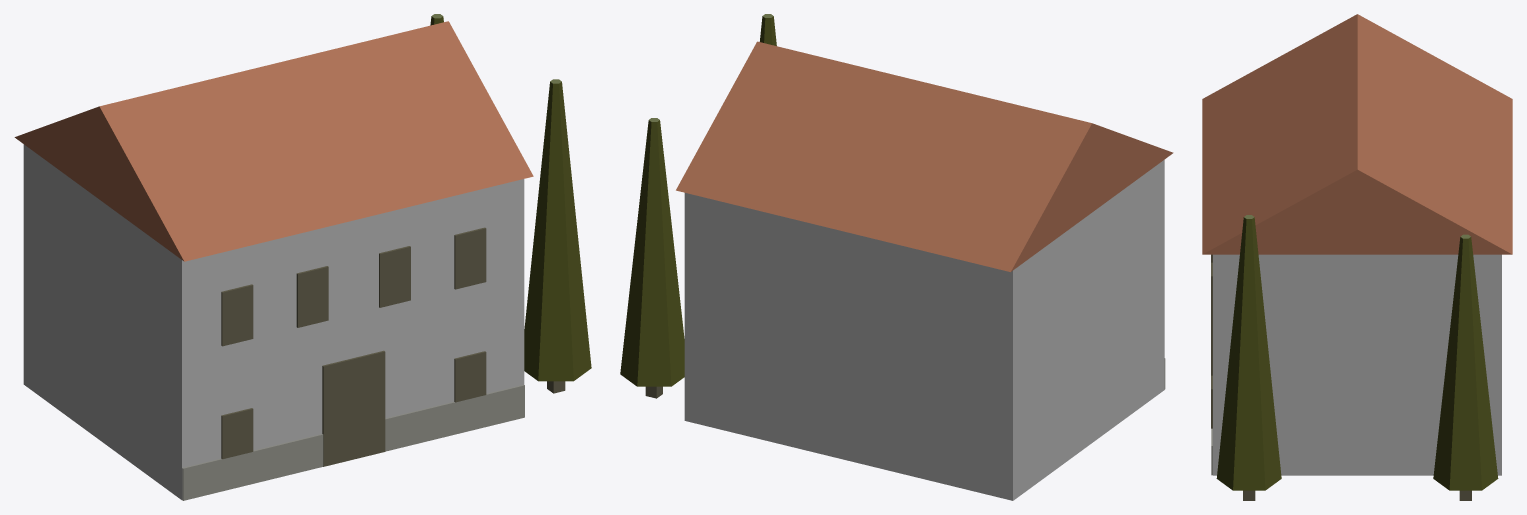
Rendered from SM_CasaLabor_v0_Encalada_LOD1.fbx.
3 renders of one model, left to right at view 1: azimuth 30°, elevation 25°; view 2: azimuth 150°, elevation 25°; view 3: azimuth 270°, elevation 25°, orthographic. The views are drawn at different scales.
Parts seen in each view (by area): view 1: SM_bloques.viveres_nules_v10_LOD1; view 2: SM_bloques.viveres_nules_v10_LOD1; view 3: SM_bloques.viveres_nules_v10_LOD1.
Part boxes in pixels (left/top/right/bottom): SM_bloques.viveres_nules_v10_LOD1: left=14, top=14, right=591, bottom=500; SM_bloques.viveres_nules_v10_LOD1: left=620, top=14, right=1173, bottom=500; SM_bloques.viveres_nules_v10_LOD1: left=1202, top=14, right=1512, bottom=500.
Size of the model in its own units: 12.38 by 9.4 by 8.6.
